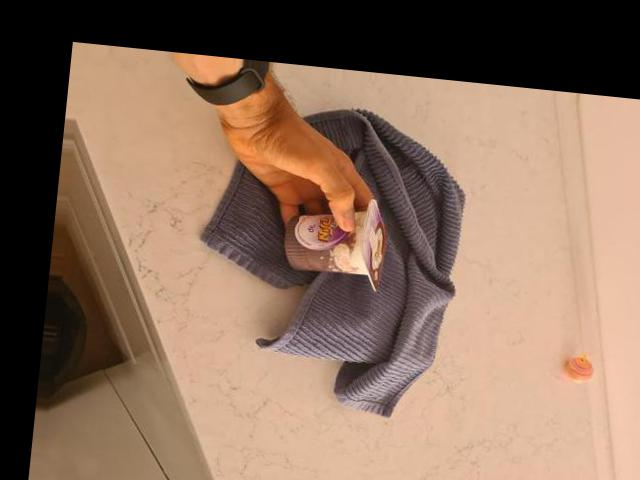milky: (279, 195, 394, 290)
